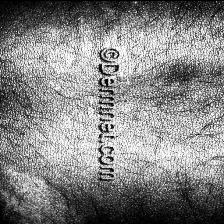Unclassified: (0, 46, 96, 163), (124, 55, 224, 148)
